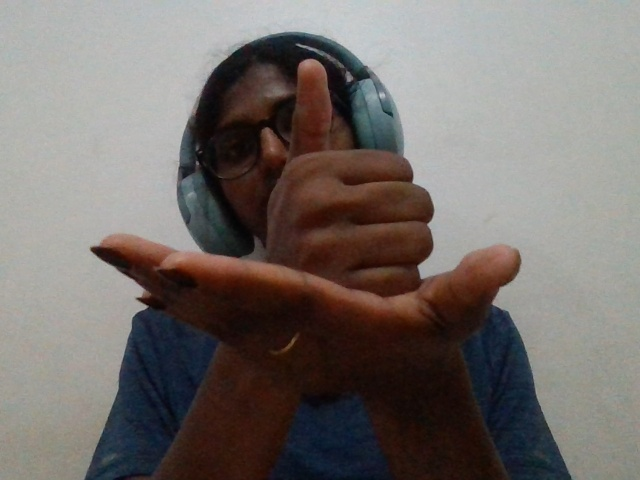Help: (52, 26, 623, 466)
